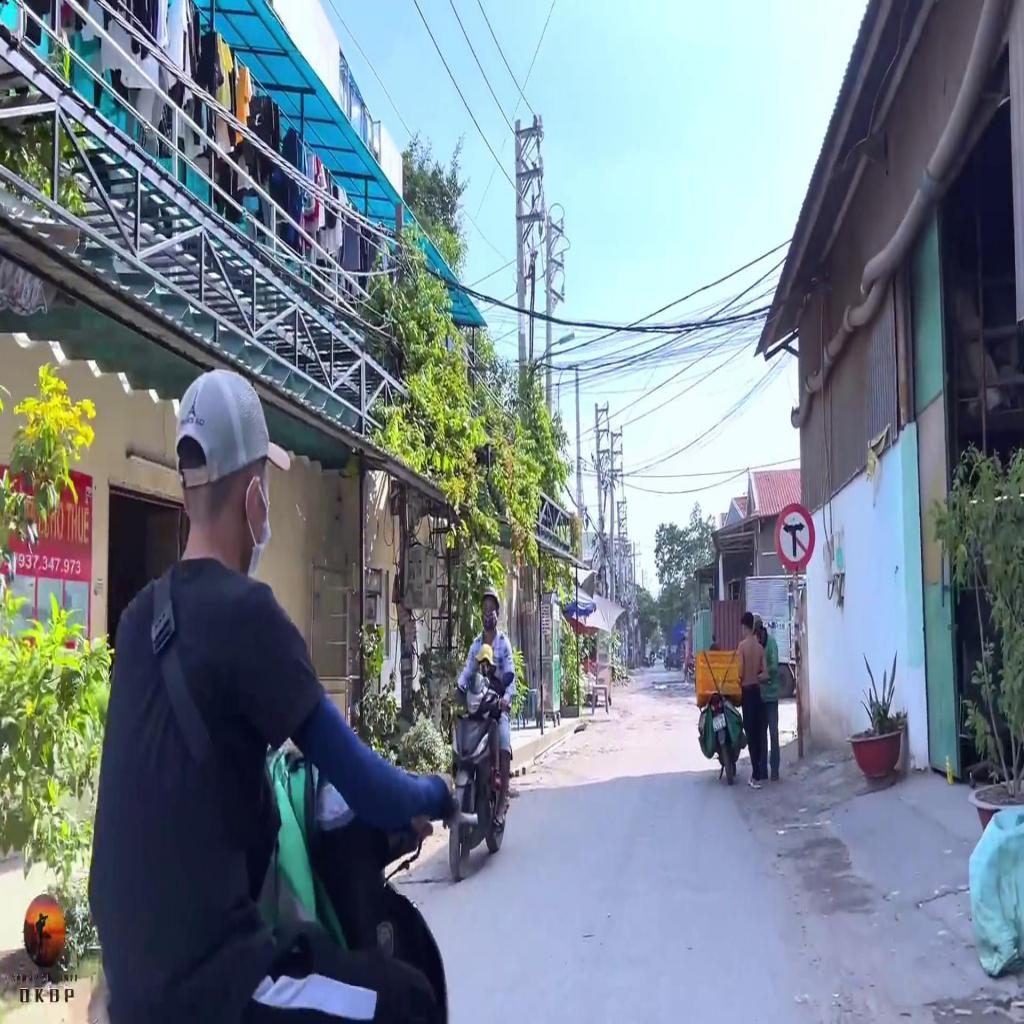cam_re_trai_va_phai: (774, 502, 816, 572)
